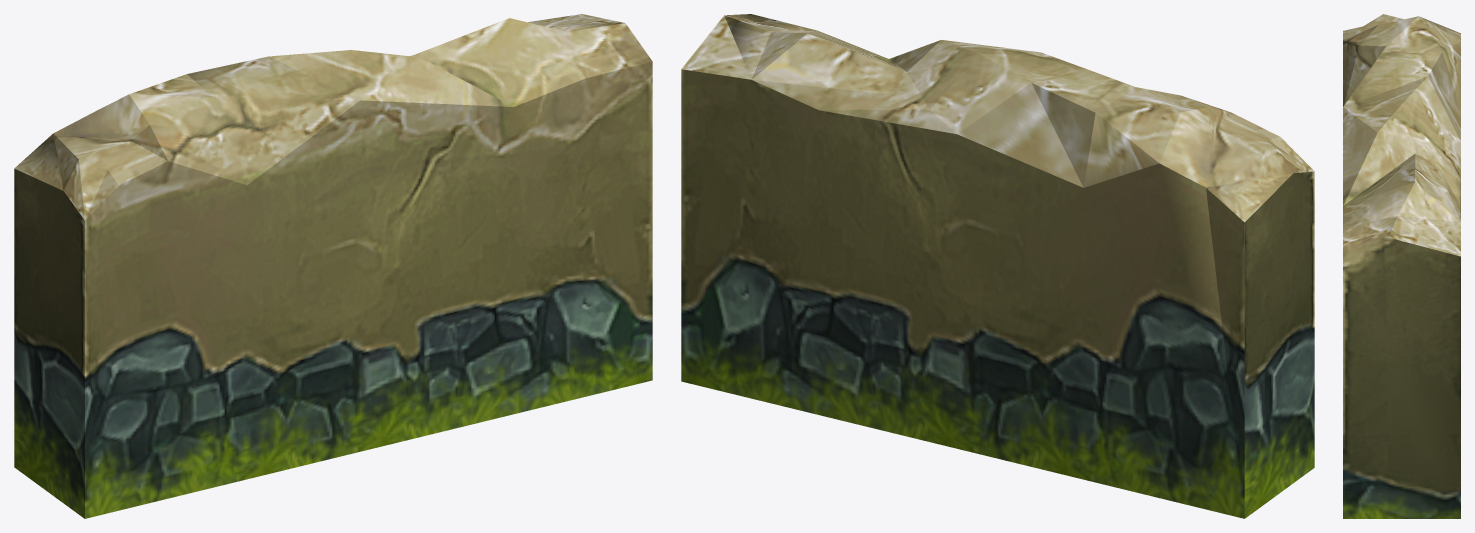
File: qiang01.FBX
The picture shows the model from 3 angles, left to right: view 1: azimuth 30°, elevation 25°; view 2: azimuth 150°, elevation 25°; view 3: azimuth 270°, elevation 25°; orthographic projection. The views are drawn at different scales.
Visible parts, largest first — view 1: qiang01; view 2: qiang01; view 3: qiang01.
Boxes of the visible parts, bbox=[...] form: qiang01: bbox=[14, 14, 652, 518]; qiang01: bbox=[681, 14, 1314, 518]; qiang01: bbox=[1343, 14, 1460, 518].
Bounding box in the file's own units: 120 × 74.35 × 25.76.
